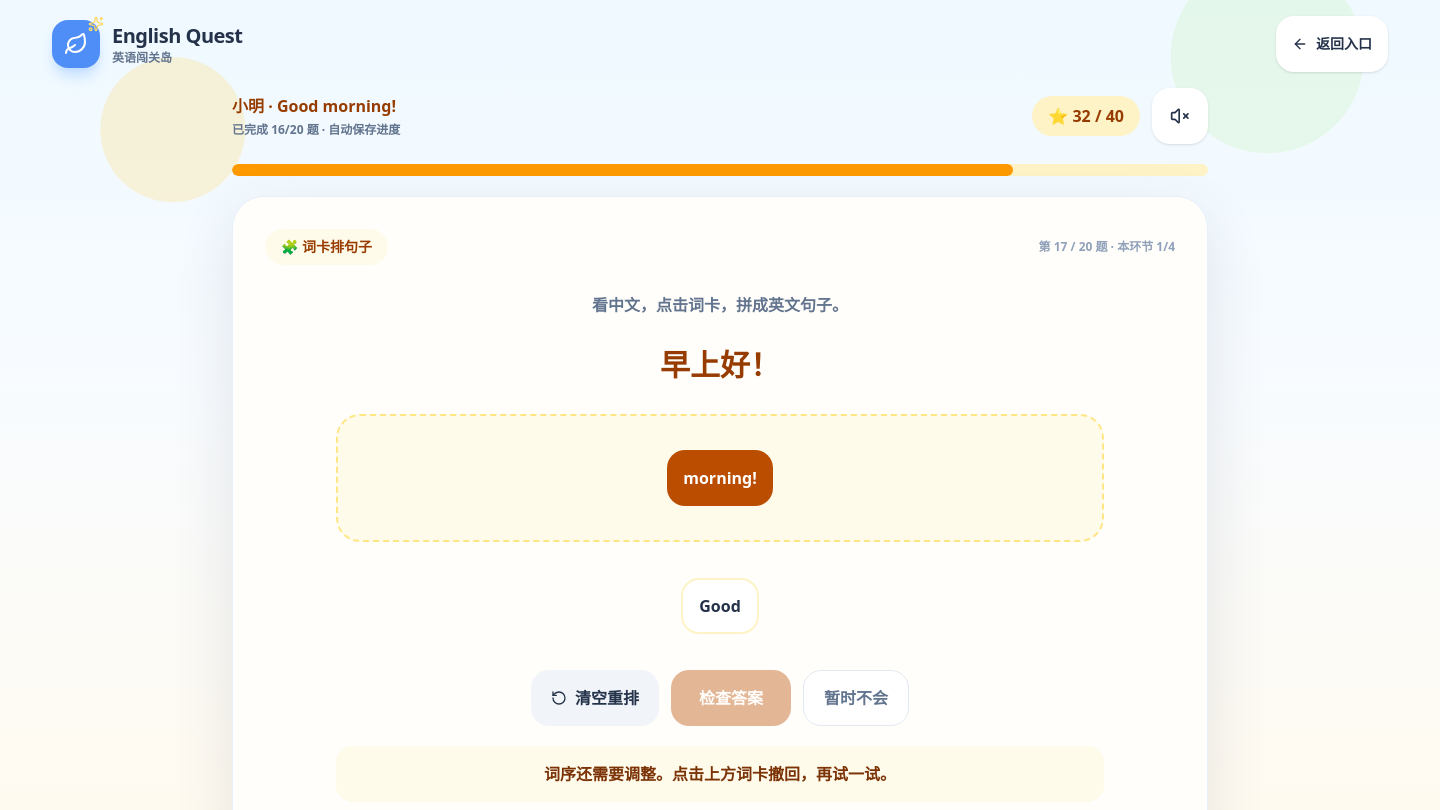
Test case: new practice interfaces › restores a partial sentence and its retry counter, and lists skipped answers for review
The image size is (1440, 810).
Expected: the button with aria-label "撤回第1张词卡 morning!" is shown, [667,450,773,506]
Expected: the button "检查答案" is disabled, [671,670,791,726]
Step 1. Click the button "暂时不会" → (856, 698), box [803,670,909,726]
(page scrolled)
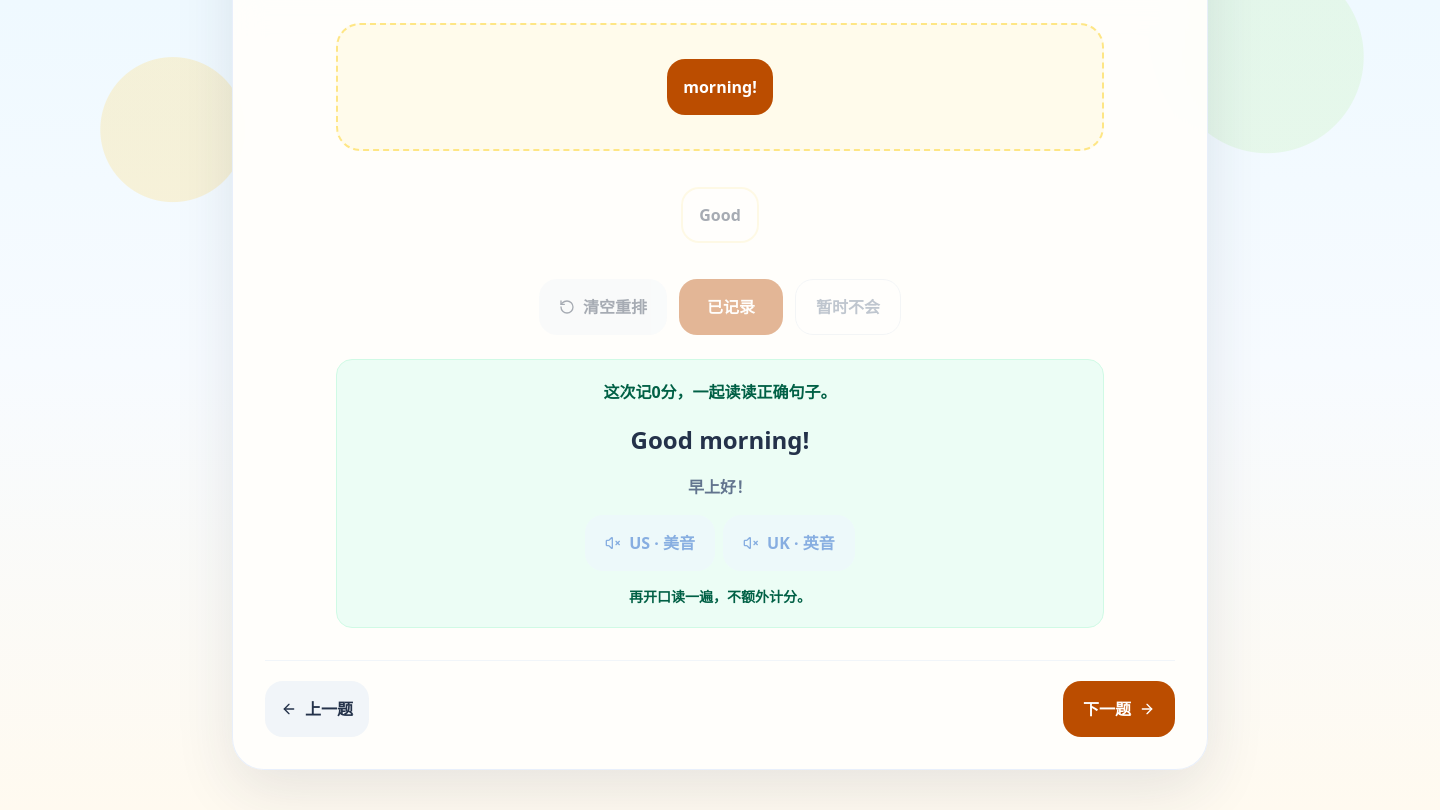
Expected: the text "Good morning!" is shown, [631,423,809,456]
Expected: the button "下一题" is enabled, [1063,681,1175,737]
